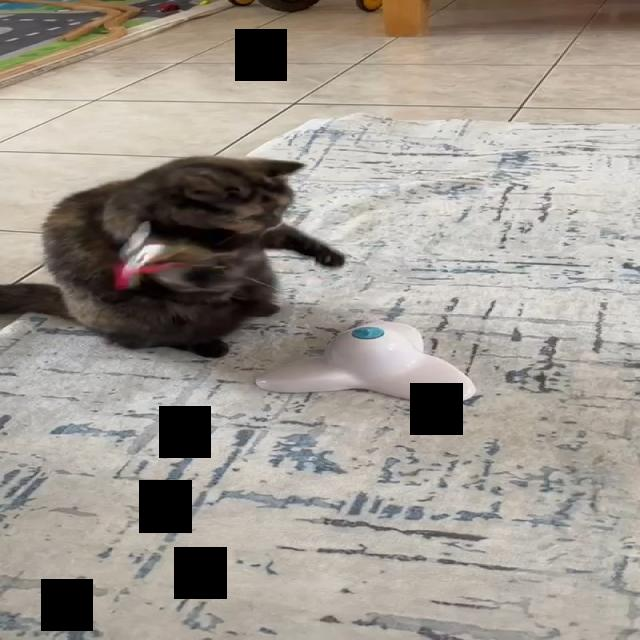authorized: (0, 153, 345, 358)
